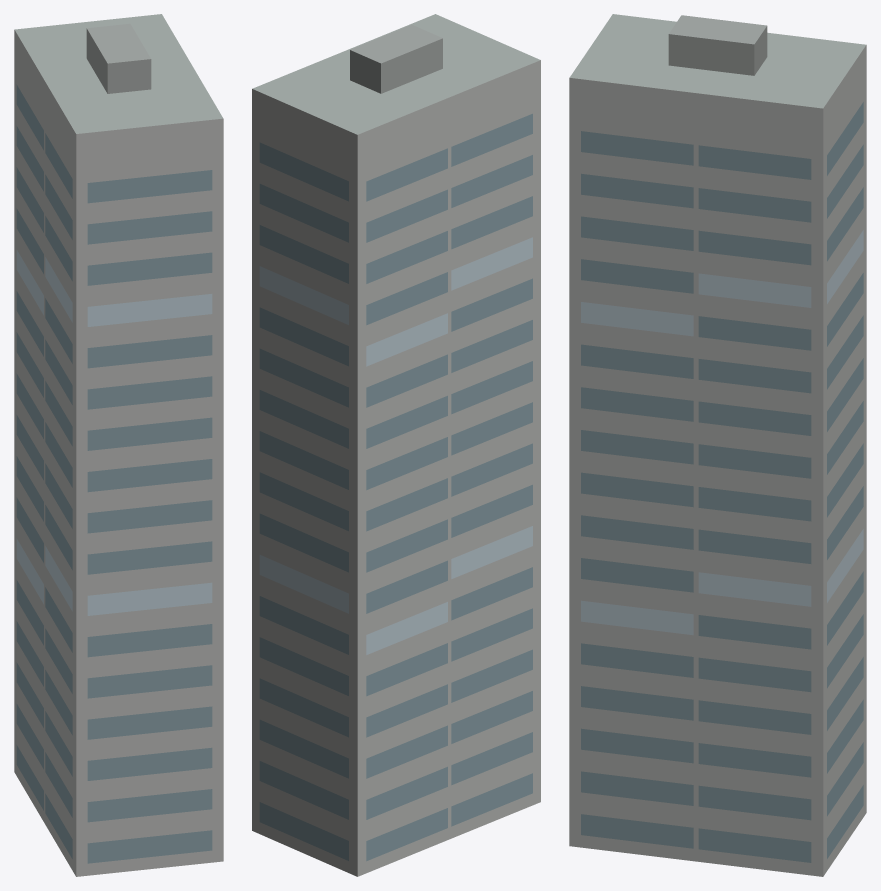
The model's file is fallback-dh-honor-hills-304.glb.
3 renders of one model, left to right at view 1: azimuth 30°, elevation 25°; view 2: azimuth 150°, elevation 25°; view 3: azimuth 270°, elevation 25°, orthographic. The views are drawn at different scales.
Visible parts, largest first — view 1: fallback-dh-honor-hills-304; view 2: fallback-dh-honor-hills-304; view 3: fallback-dh-honor-hills-304.
Part boxes in pixels (box(x1,y1,x2,y2)): fallback-dh-honor-hills-304: box(14, 14, 223, 876); fallback-dh-honor-hills-304: box(252, 14, 540, 876); fallback-dh-honor-hills-304: box(569, 14, 866, 876).
Size of the model in its own units: 15.47 by 61 by 20.53.
